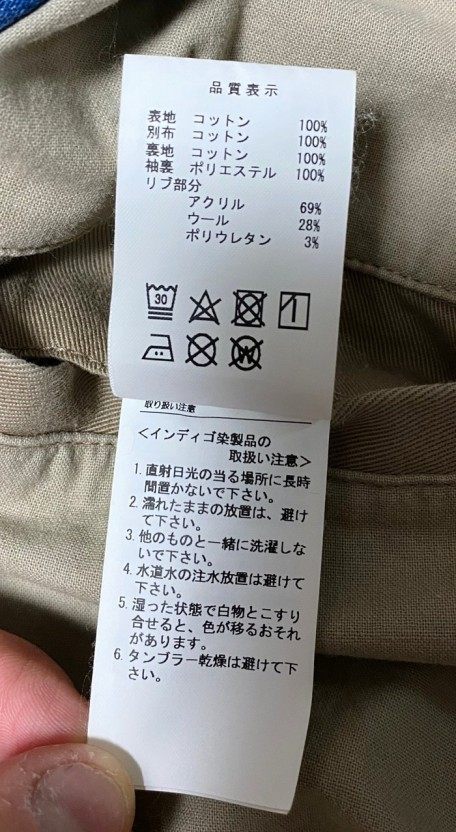ER_flat_dry_in_shade: (276, 286, 317, 336)
ER_iron_medium_temp: (137, 329, 177, 367)
ER_no_bleach: (187, 284, 222, 328)
ER_no_dry_clean: (185, 332, 220, 368)
ER_no_tumble_dry: (229, 288, 270, 332)
ER_no_wet_clean: (227, 331, 268, 373)
ER_wash_30_mild: (143, 278, 180, 325)
